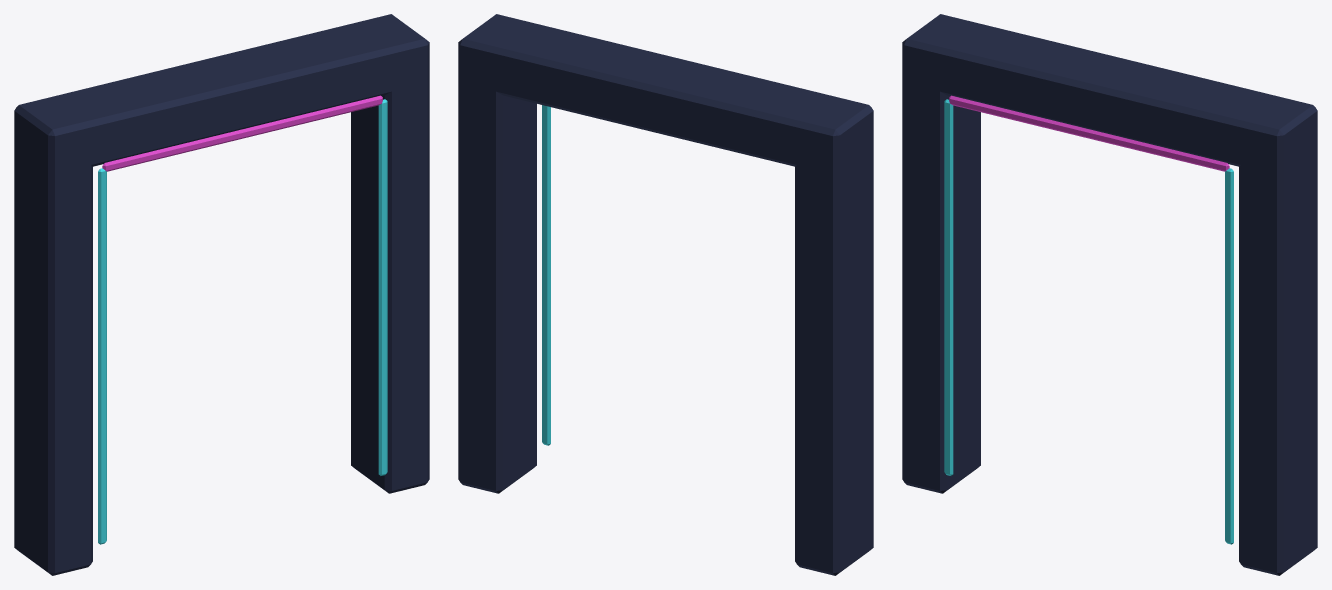
File: neon-portal.glb
3 views of the same model, side by side, from view 1: azimuth 30°, elevation 25°; view 2: azimuth 150°, elevation 25°; view 3: azimuth 330°, elevation 25° (orthographic).
Visible parts, largest first — view 1: portal-pillar, portal-lintel, portal-pillar.001, portal-strip.001, portal-strip, portal-strip.002; view 2: portal-pillar, portal-pillar.001, portal-lintel, portal-strip.001; view 3: portal-pillar.001, portal-lintel, portal-pillar, portal-strip, portal-strip.001, portal-strip.002.
Part boxes in pixels (x1,y1,x2,y2): portal-pillar: [14, 136, 92, 575]; portal-lintel: [14, 14, 429, 173]; portal-pillar.001: [351, 66, 429, 493]; portal-strip.001: [378, 99, 387, 475]; portal-strip: [98, 168, 106, 544]; portal-strip.002: [102, 95, 382, 171]; portal-pillar: [795, 135, 873, 575]; portal-pillar.001: [458, 69, 536, 493]; portal-lintel: [458, 14, 873, 173]; portal-strip.001: [542, 105, 550, 445]; portal-pillar.001: [1239, 134, 1317, 575]; portal-lintel: [902, 14, 1317, 172]; portal-pillar: [902, 69, 980, 493]; portal-strip: [944, 99, 953, 475]; portal-strip.001: [1225, 168, 1233, 544]; portal-strip.002: [949, 95, 1229, 171].
Bounding box in the file's own units: 3.4 × 3.8 × 0.64.
